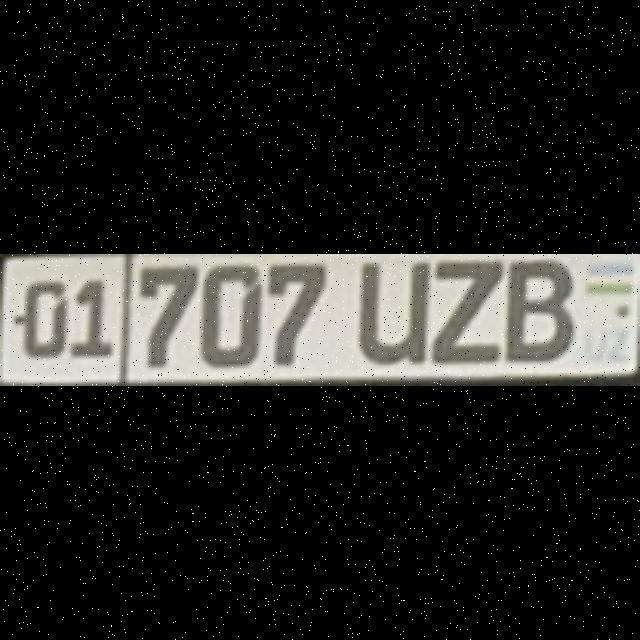0: (197, 263, 259, 365), (18, 278, 62, 356)
1: (68, 276, 108, 356)
7: (265, 260, 323, 364), (136, 263, 194, 365)
B: (501, 256, 569, 362)
U: (354, 260, 422, 362)
Z: (428, 257, 496, 359)
